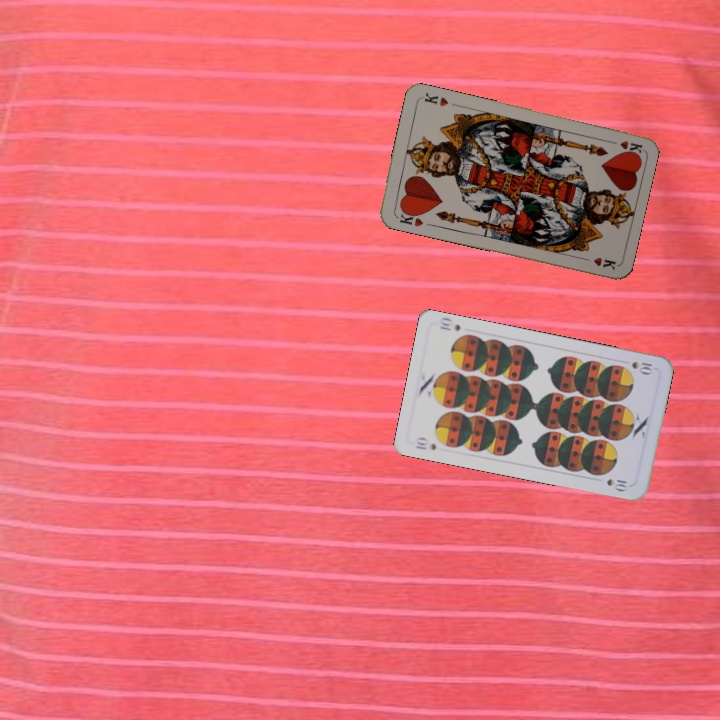HK: (603, 136, 644, 157), (392, 206, 426, 229)
S10: (411, 433, 439, 453), (628, 357, 655, 377)
